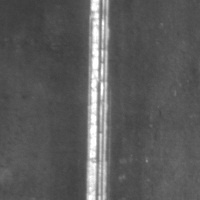scratches: (83, 0, 115, 199)
